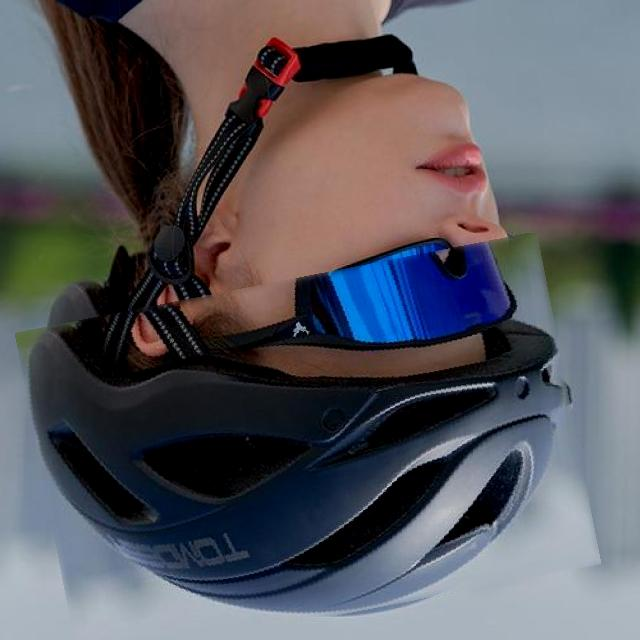helmet: (29, 257, 588, 640)
